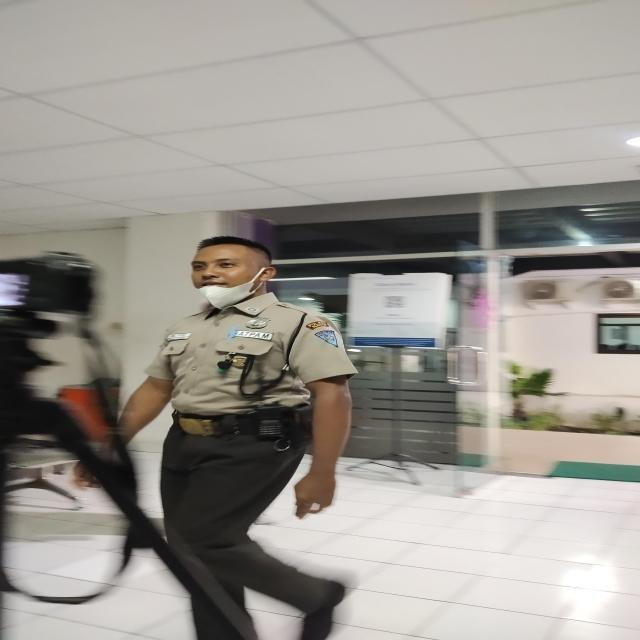hairnet: (194, 269, 258, 313)
